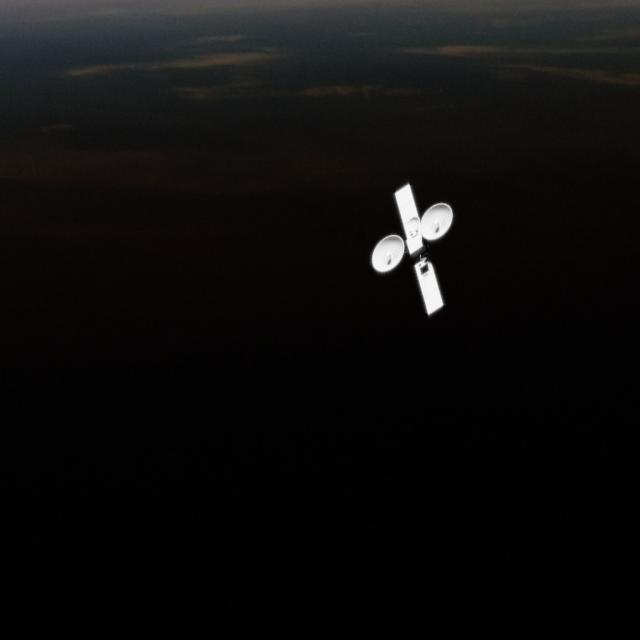satellite: (363, 173, 470, 323)
